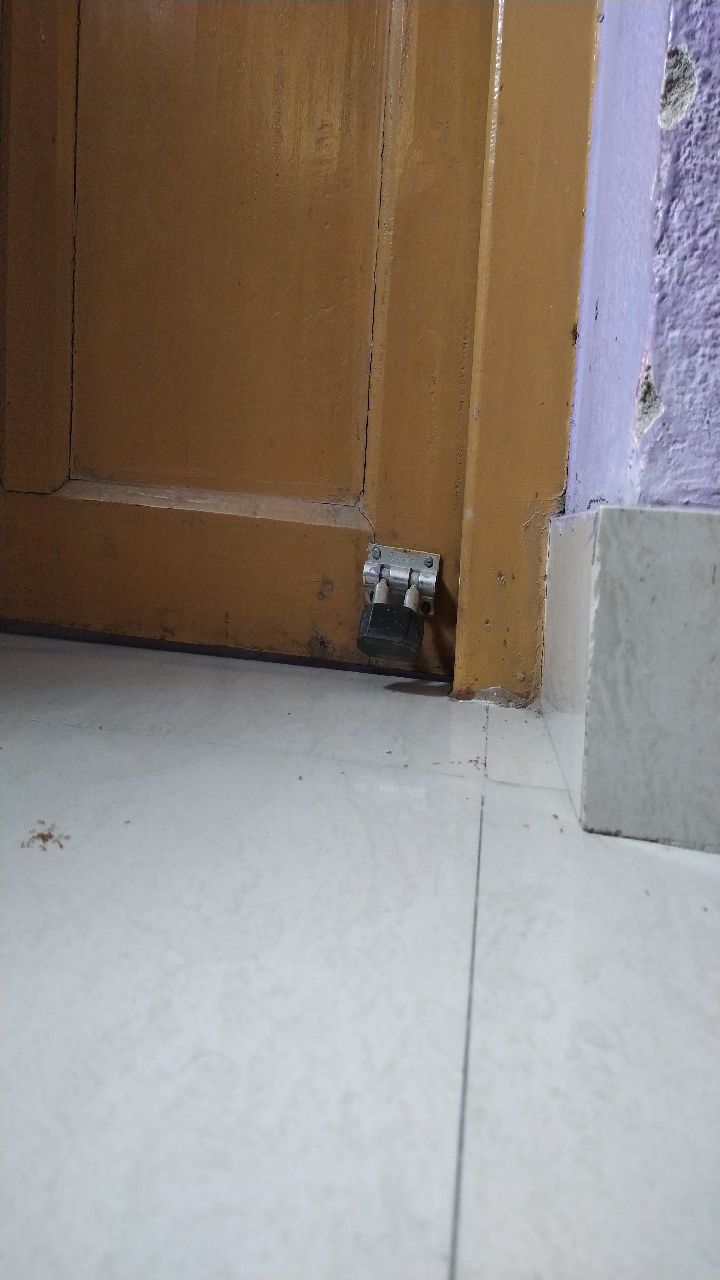Doors: (4, 64, 593, 757)
